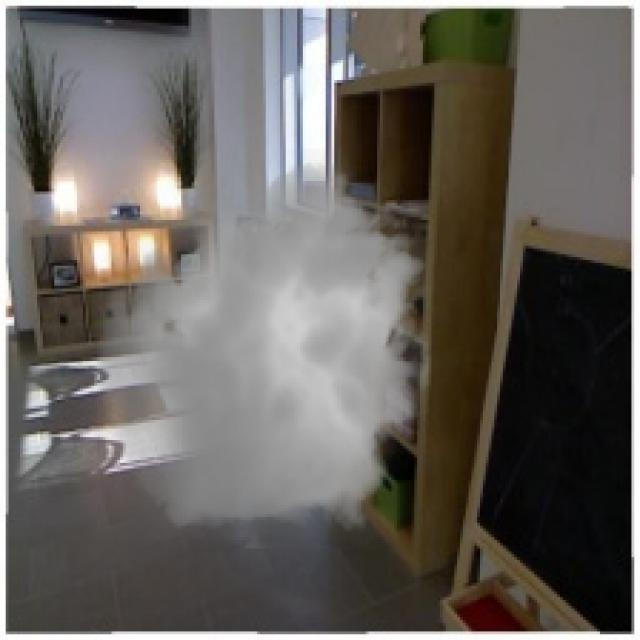smoke: (86, 148, 446, 548)
